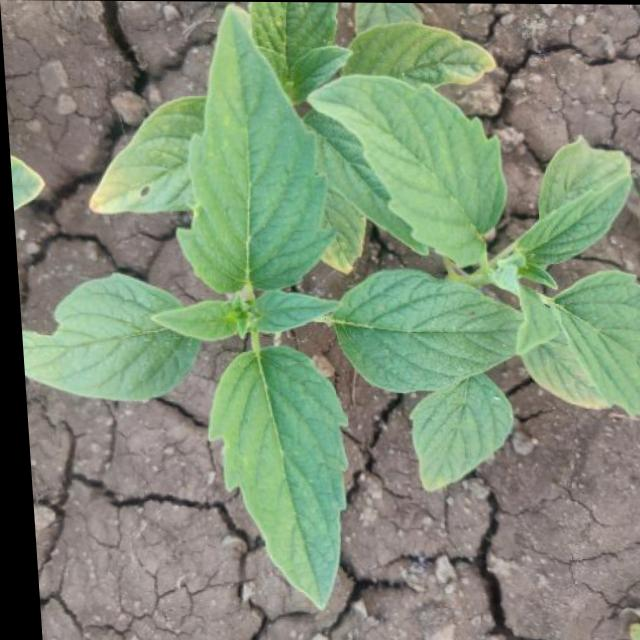crop: (12, 19, 640, 560)
